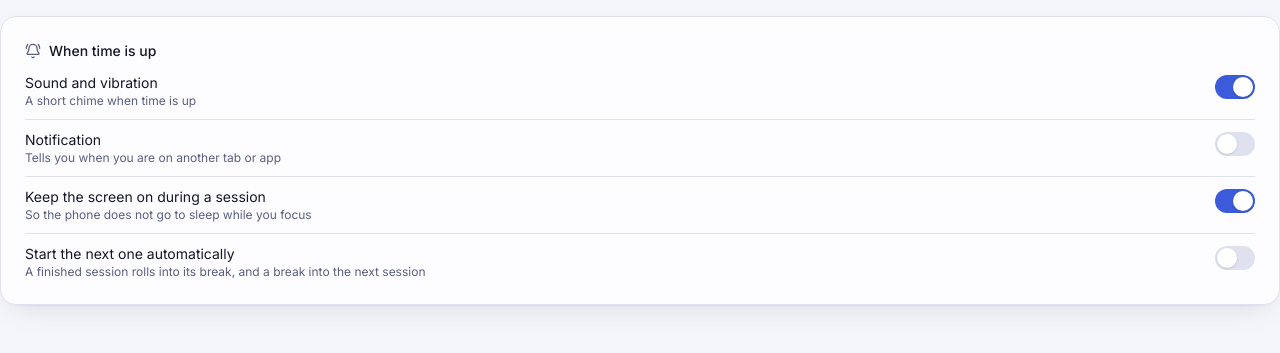
Test: the "When time is up" card › turns notifications on only when the browser allows them, and says so when it does not
Click the switch named "Notification" in the row of "Notification": [1235, 144] box 1215,132 -> 1255,156
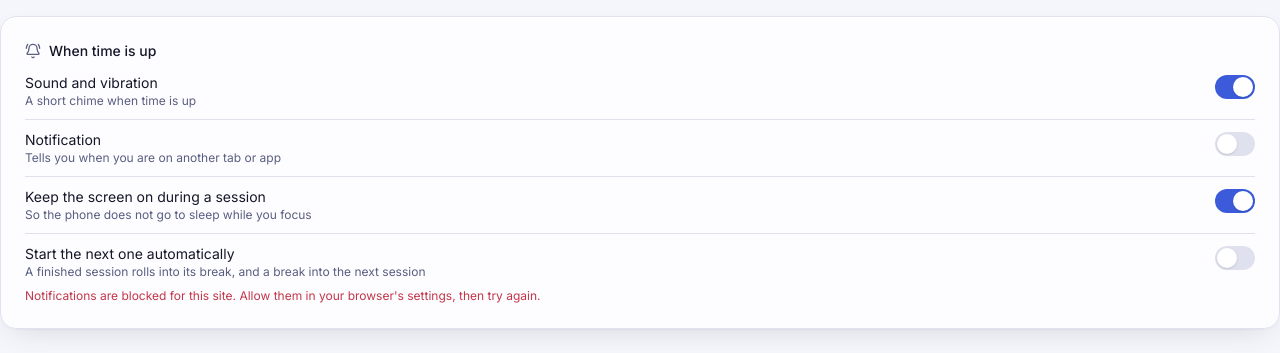
Check: the message shows "blocked", box 25,288 -> 540,303
Click the 2nd switch named "Notification": [1235, 144] box 1215,132 -> 1255,156
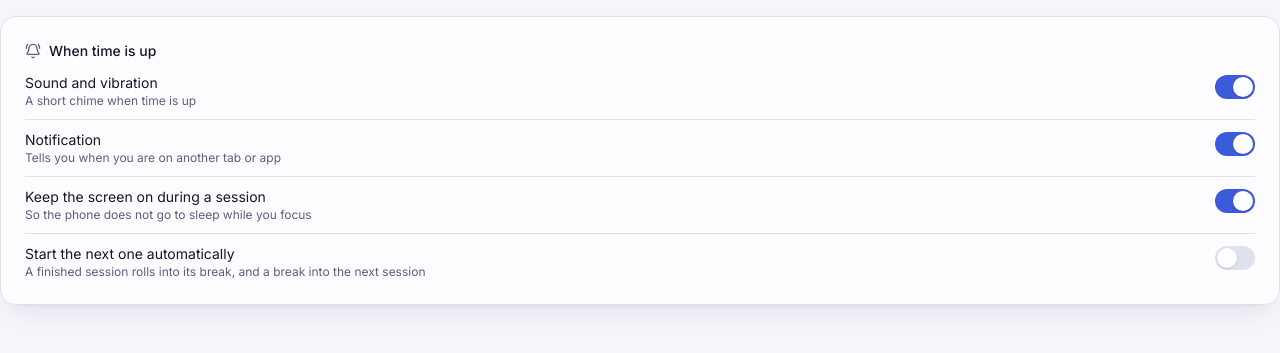
Check: the message "Notifications are blocked for this site. Allow them in your browser's settings," is gone
